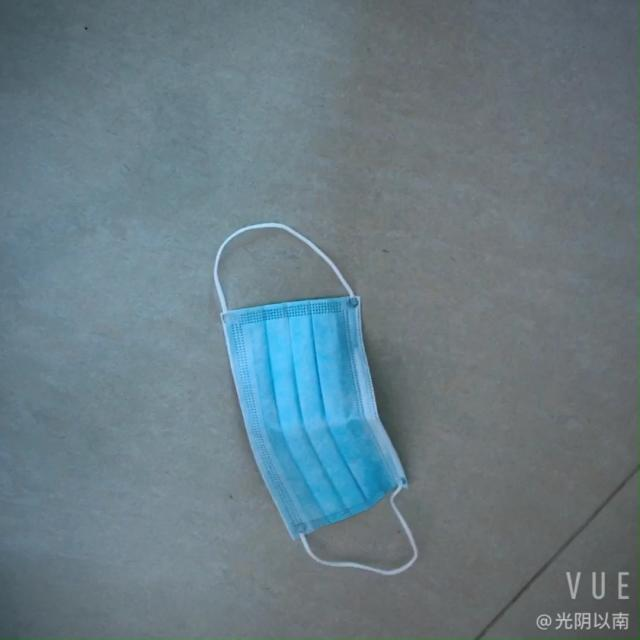non-organic waste: (234, 225, 424, 576)
